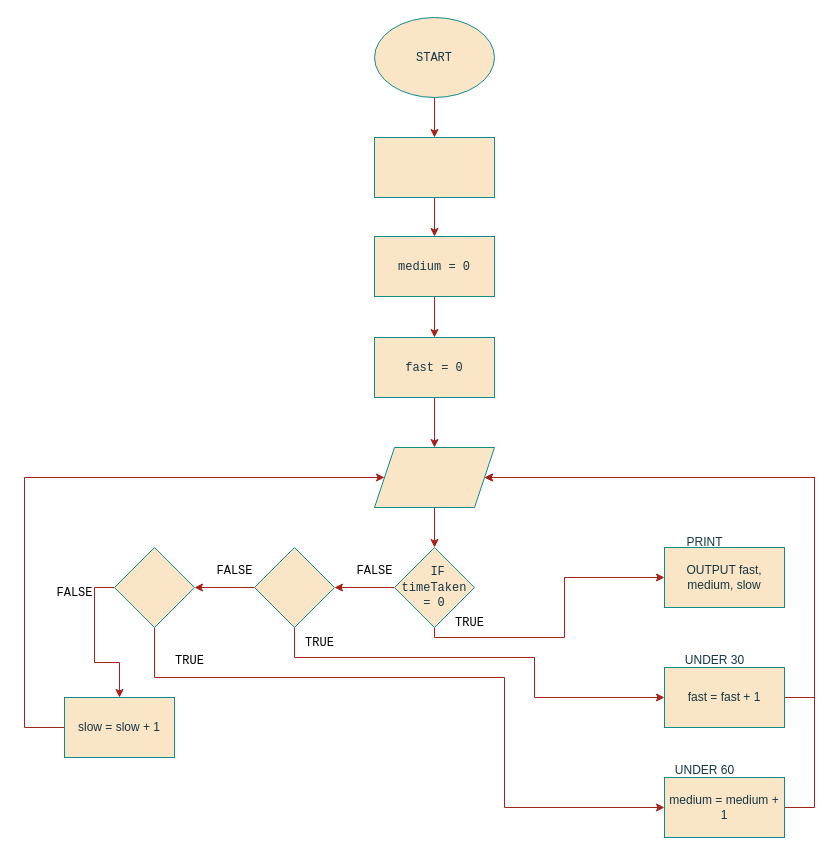
The diagram is 840 pixels wide and 855 high, and some of its shapes have lost their labels. Each missing label, with the box of its shape:
IF timeTaken < 30: (254, 546, 334, 628)
IF timeTaken < 60: (114, 546, 194, 628)
slow = 0: (374, 136, 494, 198)
timeTaken = USERINPUT: (374, 446, 494, 508)
